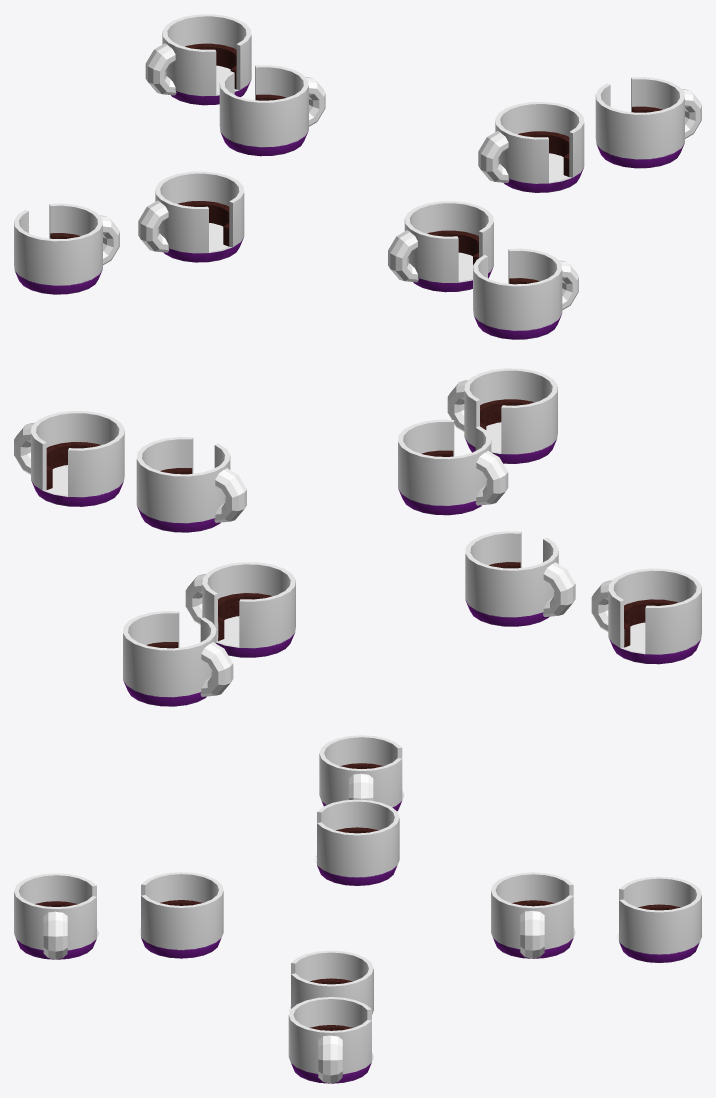
The model's file is xicarajunto.obj.
The picture shows the model from 3 angles, top to bottom: view 1: azimuth 30°, elevation 25°; view 2: azimuth 150°, elevation 25°; view 3: azimuth 270°, elevation 25°; orthographic projection. The views are drawn at different scales.
Visible parts, largest first — view 1: xicarajunto:pCylinder4; view 2: xicarajunto:pCylinder4; view 3: xicarajunto:pCylinder4.
Part boxes in pixels (box(x1,y1,x2,y2)): xicarajunto:pCylinder4: box(14, 14, 701, 339); xicarajunto:pCylinder4: box(14, 368, 701, 706); xicarajunto:pCylinder4: box(14, 735, 701, 1083).
Bounding box in the file's own units: 3.12 × 0.2493 × 2.95.
8 materials, 8 textured.
